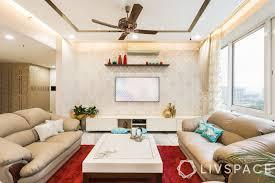TV: (113, 77, 161, 102)
console: (98, 116, 182, 129)
fan: (91, 5, 159, 41)
light: (2, 30, 17, 42), (68, 31, 77, 42), (130, 34, 139, 42), (51, 62, 57, 68)
sofa: (172, 111, 274, 183), (0, 104, 88, 183)
table: (82, 130, 164, 183)
